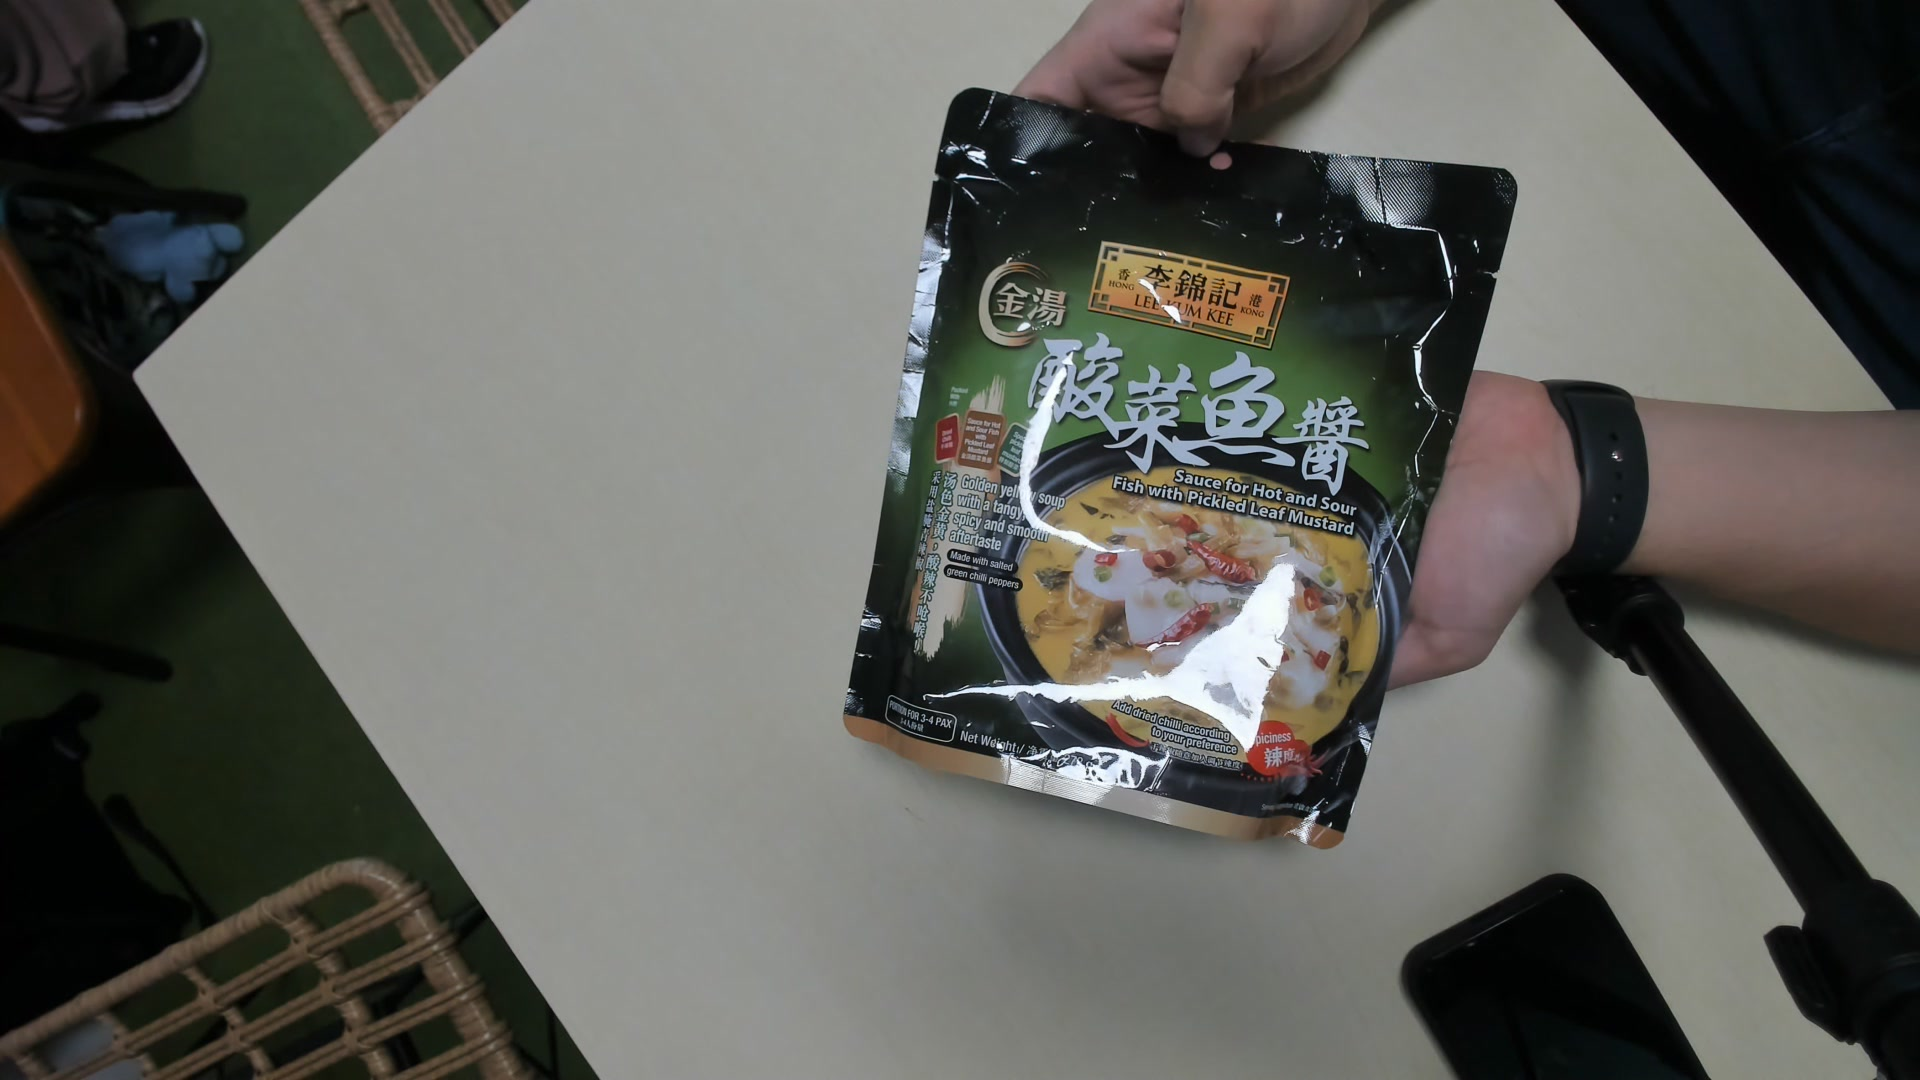OtherSauceDressing_200-299g_NonHalal_NonHealthy: (840, 91, 1513, 860)
